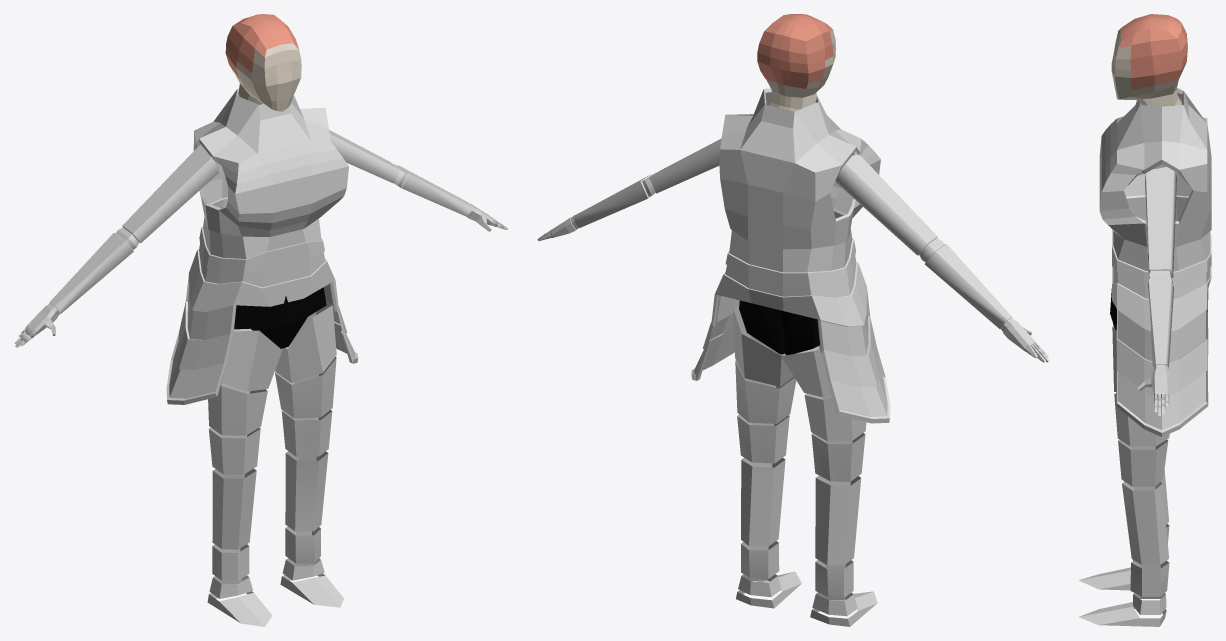
Rendered from Soldier2.fbx.
3 views of the same model, side by side, from view 1: azimuth 30°, elevation 25°; view 2: azimuth 150°, elevation 25°; view 3: azimuth 270°, elevation 25° (orthographic). The views are drawn at different scales.
Visible parts, largest first — view 1: Peitoral.001, Perneiras.001, Braço Dir.001, Body, Braço Esq.001, Cintura; view 2: Peitoral.001, Perneiras.001, Braço Dir.001, Body, Braço Esq.001, Cintura; view 3: Peitoral.001, Perneiras.001, Braço Esq.001, Body.
Boxes of the visible parts, left/top/right/bottom form: Peitoral.001: left=166, top=88, right=358, bottom=404; Perneiras.001: left=207, top=300, right=343, bottom=626; Braço Dir.001: left=14, top=144, right=219, bottom=347; Body: left=225, top=14, right=301, bottom=111; Braço Esq.001: left=329, top=130, right=507, bottom=231; Cintura: left=234, top=287, right=326, bottom=348; Peitoral.001: left=691, top=88, right=890, bottom=423; Perneiras.001: left=733, top=304, right=877, bottom=626; Braço Dir.001: left=835, top=154, right=1049, bottom=362; Body: left=757, top=14, right=835, bottom=111; Braço Esq.001: left=537, top=138, right=721, bottom=241; Cintura: left=739, top=300, right=819, bottom=355; Peitoral.001: left=1099, top=88, right=1211, bottom=436; Perneiras.001: left=1079, top=324, right=1169, bottom=626; Braço Esq.001: left=1137, top=167, right=1176, bottom=416; Body: left=1111, top=14, right=1187, bottom=106.
Size of the model in its own units: 66.45 by 73.86 by 15.37.
